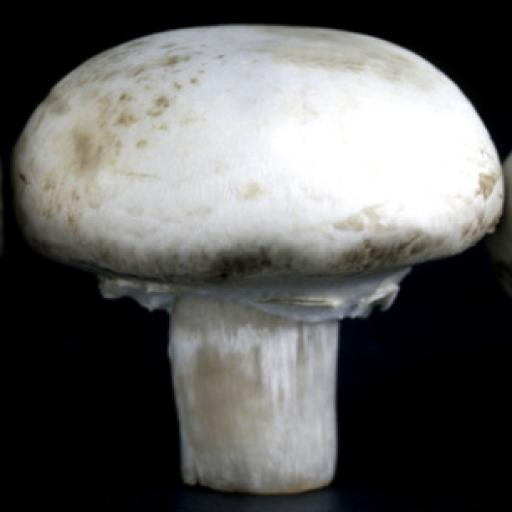Button Mushroom: (10, 22, 507, 496)
